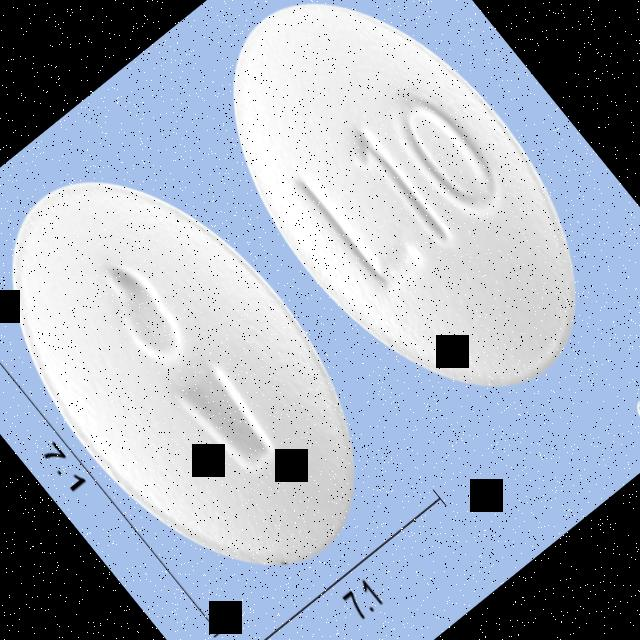Leflu - 20mg: (0, 114, 421, 626), (161, 0, 640, 449)
